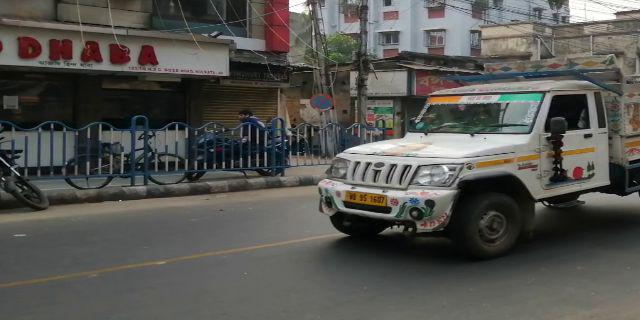Minitruck: (317, 63, 640, 253)
